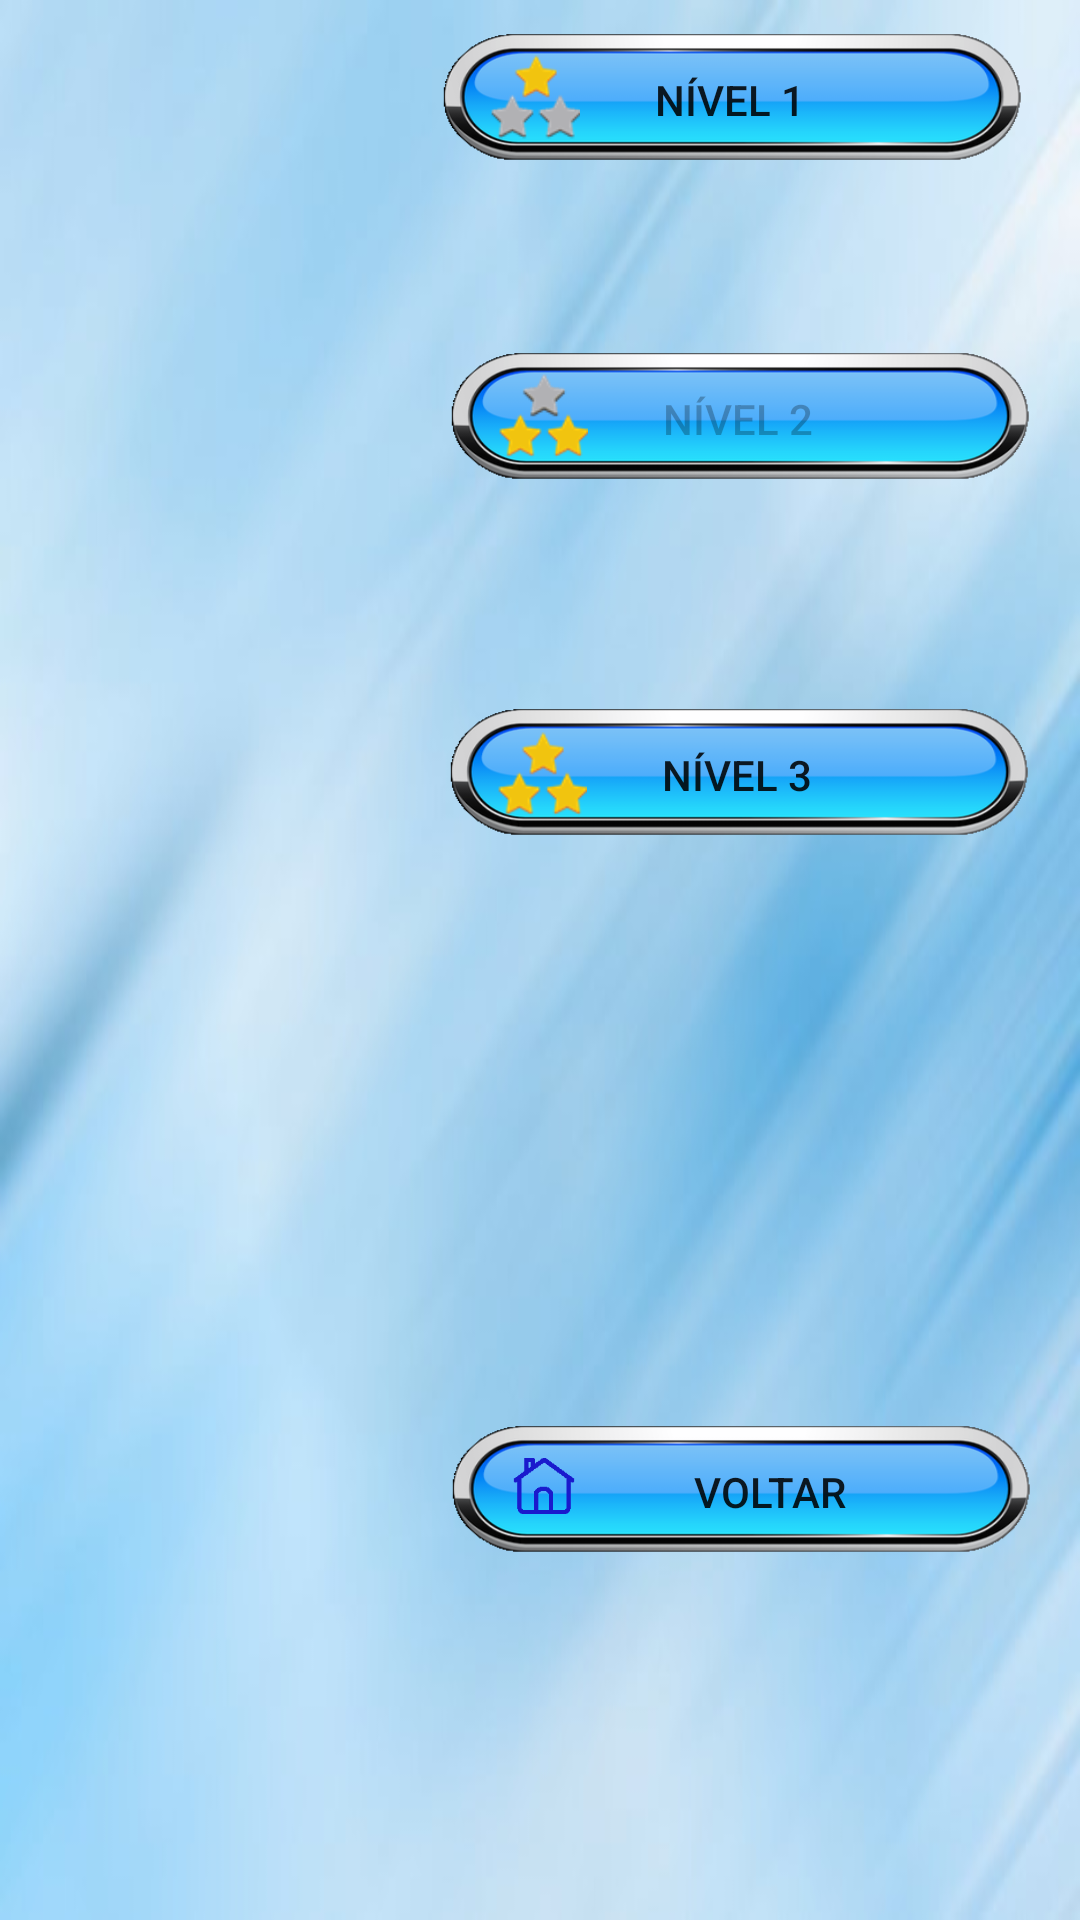

Named icons in this screenshot (1080px x 1920px) and their centers, [x,y]:
homepress: [544,1486]
stars: [535,97], [543,416], [542,774]
